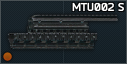SOK-12 Leapers UTG PRO MTU002 Short Top aluminum handguard: (0, 0, 127, 64)
